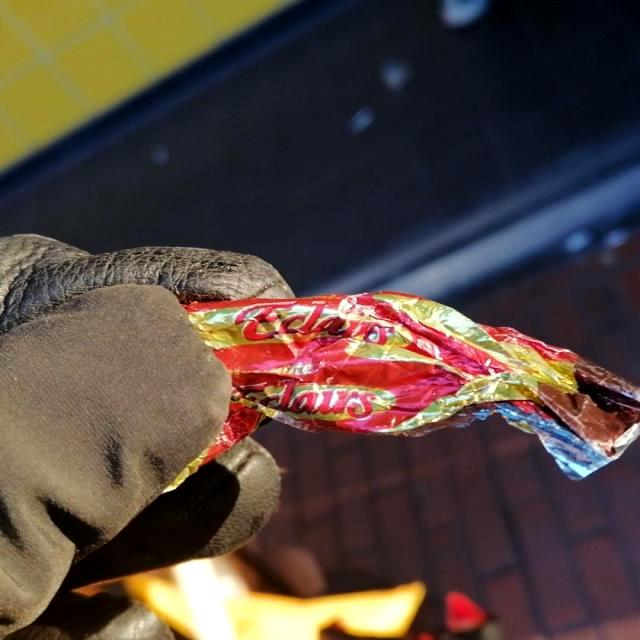Plastic: (132, 288, 640, 497)
